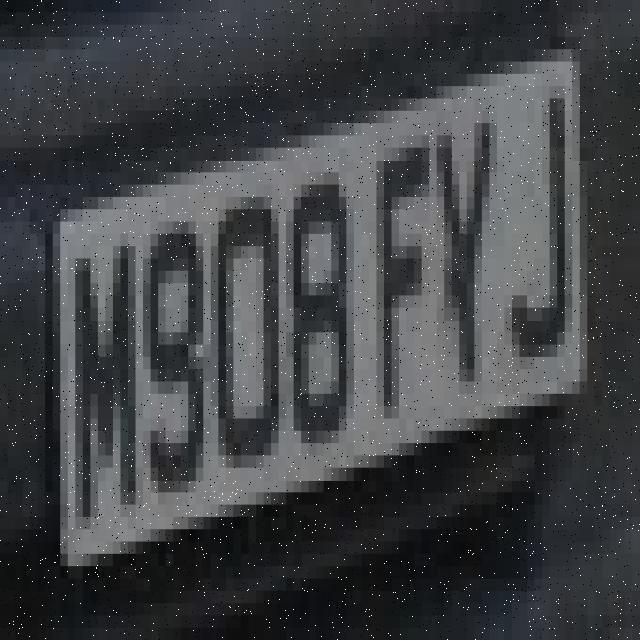License Plate: (32, 34, 608, 558)
